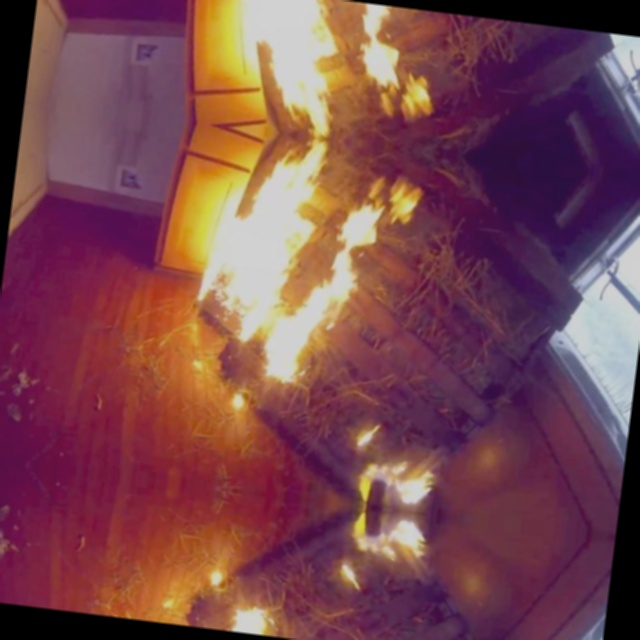fire: (157, 0, 438, 468)
